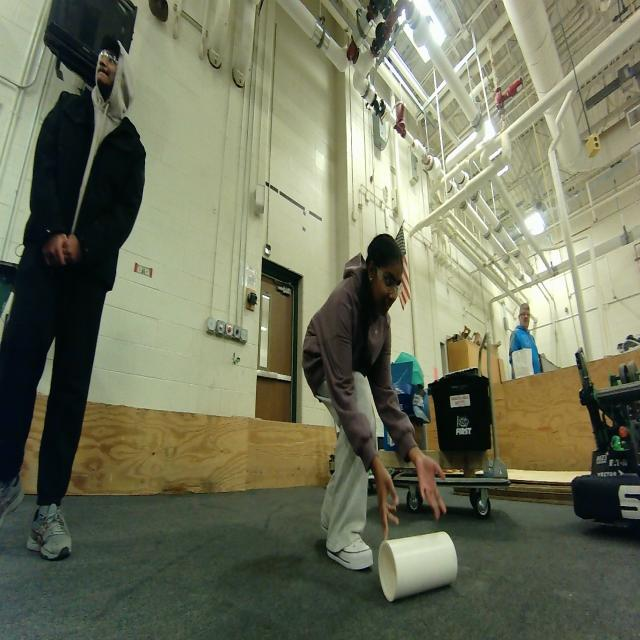coral: (372, 526, 467, 606)
